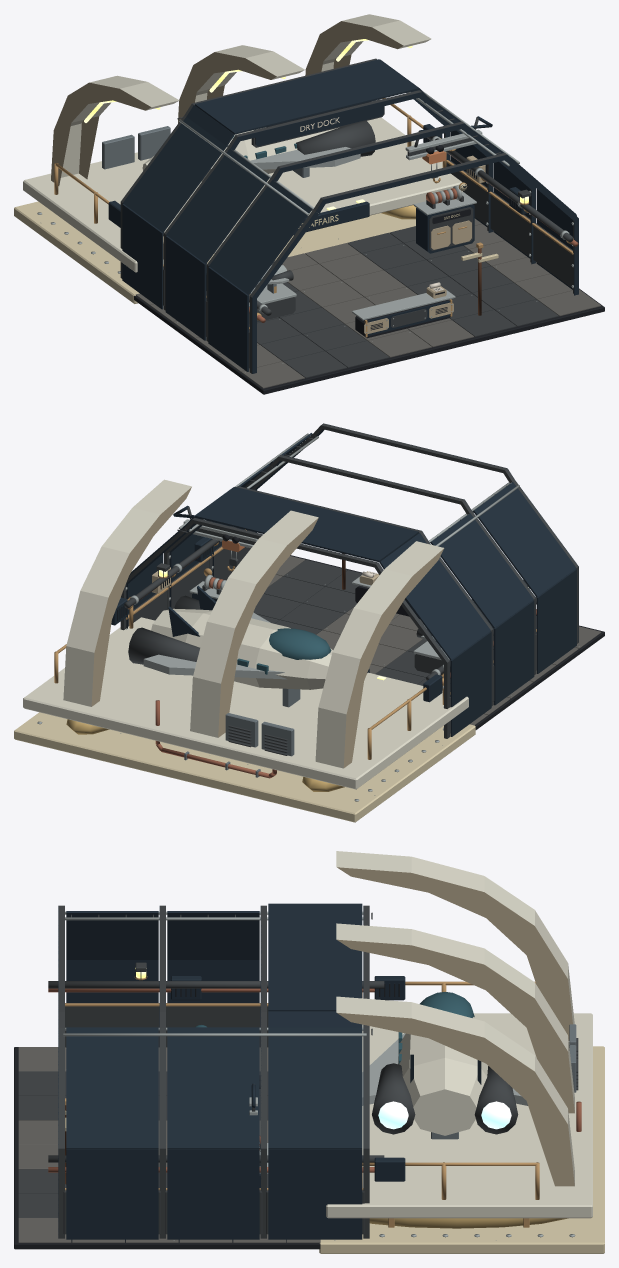
Rendered from jovexa-yard.glb.
3 views of the same model, one above another, from view 1: azimuth 30°, elevation 25°; view 2: azimuth 150°, elevation 25°; view 3: azimuth 270°, elevation 25° (orthographic). The views are drawn at different scales.
Parts seen in each view (by area): view 1: jovexa-yard; view 2: jovexa-yard; view 3: jovexa-yard.
Part boxes in pixels (x1=…): jovexa-yard: x1=14, y1=14, x2=604, y2=394; jovexa-yard: x1=14, y1=423, x2=604, y2=822; jovexa-yard: x1=14, y1=851, x2=604, y2=1253.
Bounding box in the file's own units: 17.1 × 8.99 × 21.62.
Materials: 21 (16 with a texture image).
